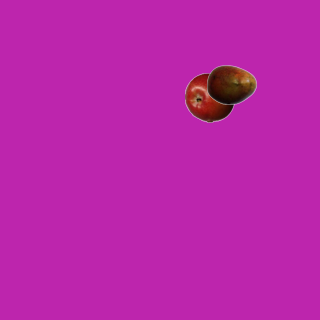Apple Braeburn: (184, 72, 234, 122)
Mango Red: (206, 59, 256, 109)
